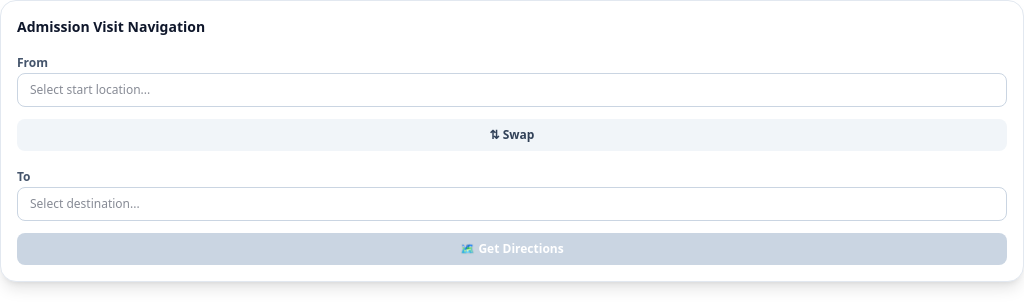
Scenario: NavigationPanel keyboard flow › Escape closes the open suggestions listbox
Type "a" into the dropdown labelled "From".
click(512, 90); type("a")  # box [17,73,1007,107]
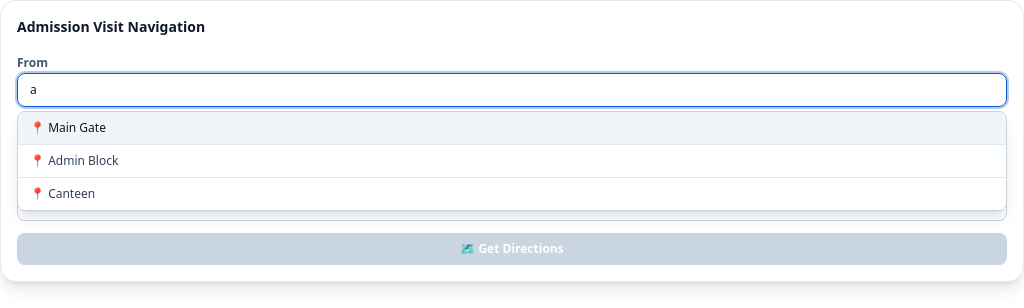
Expected: the list is shown, [17,111,1007,211]
Press Escape
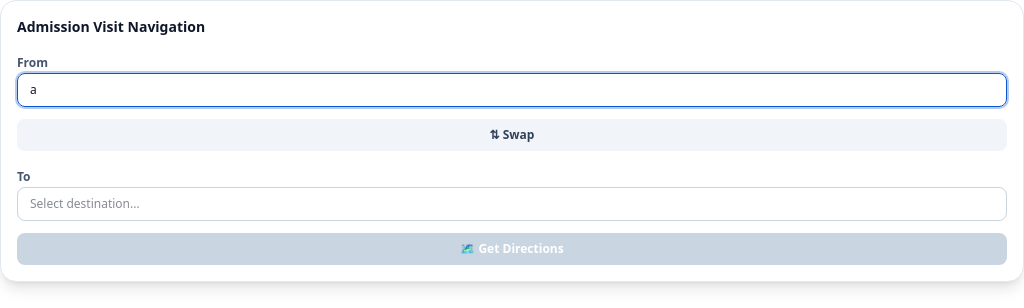
Expected: the list is gone
